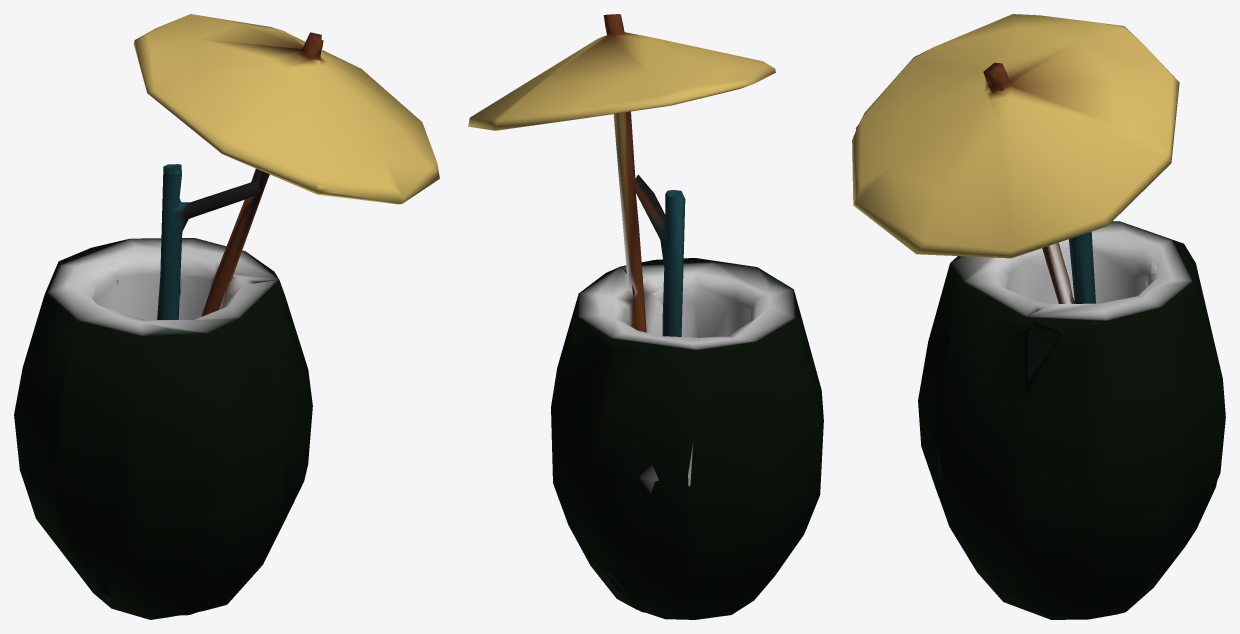
Rendered from gen3d-coconut-drink-lod1.glb.
The picture shows the model from 3 angles, left to right: view 1: azimuth 30°, elevation 25°; view 2: azimuth 150°, elevation 25°; view 3: azimuth 270°, elevation 25°; orthographic projection. The views are drawn at different scales.
Parts seen in each view (by area): view 1: part_0; view 2: part_0; view 3: part_0.
Part boxes in pixels (box(x1,y1,x2,y2)): part_0: box(14, 14, 439, 619); part_0: box(468, 14, 823, 619); part_0: box(852, 14, 1225, 619).
Bounding box in the file's own units: 0.6679 × 0.9999 × 0.579.
